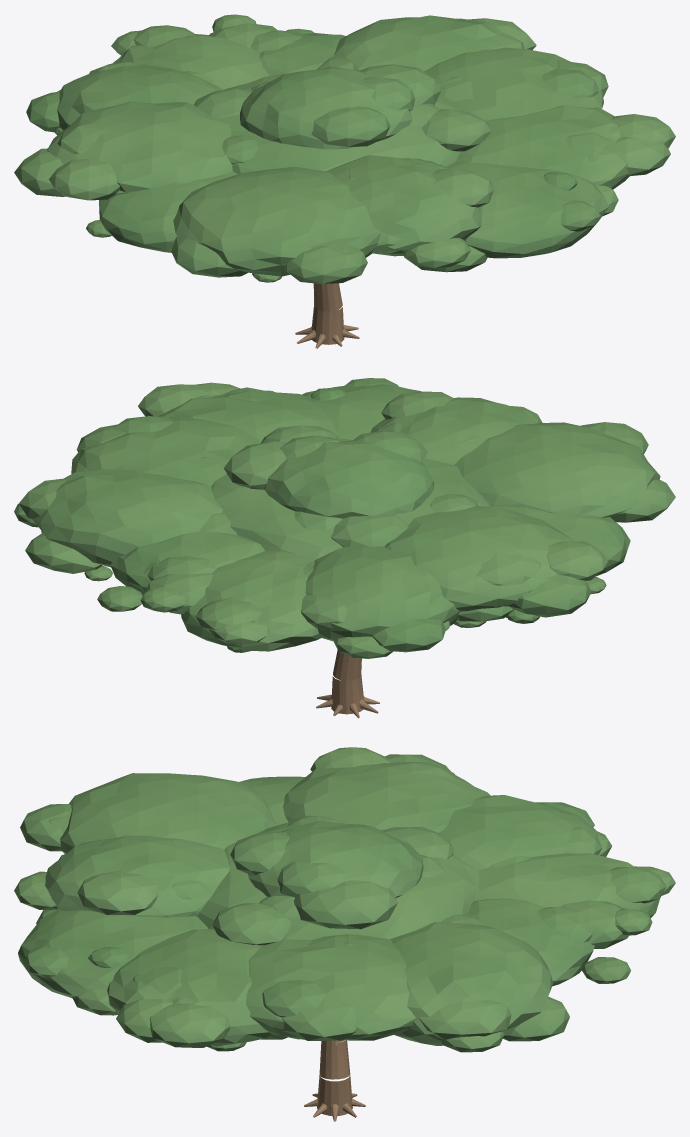
The model's file is tree_broad_giant.glb.
3 renders of one model, top to bottom at view 1: azimuth 30°, elevation 25°; view 2: azimuth 150°, elevation 25°; view 3: azimuth 270°, elevation 25°, orthographic. The views are drawn at different scales.
Parts seen in each view (by area): view 1: world; view 2: world; view 3: world.
Part boxes in pixels (<box>): world: <box>14,14,675,348</box>; world: <box>14,378,675,718</box>; world: <box>14,747,675,1121</box>.
Bounding box in the file's own units: 70.93 × 31.45 × 70.54.
